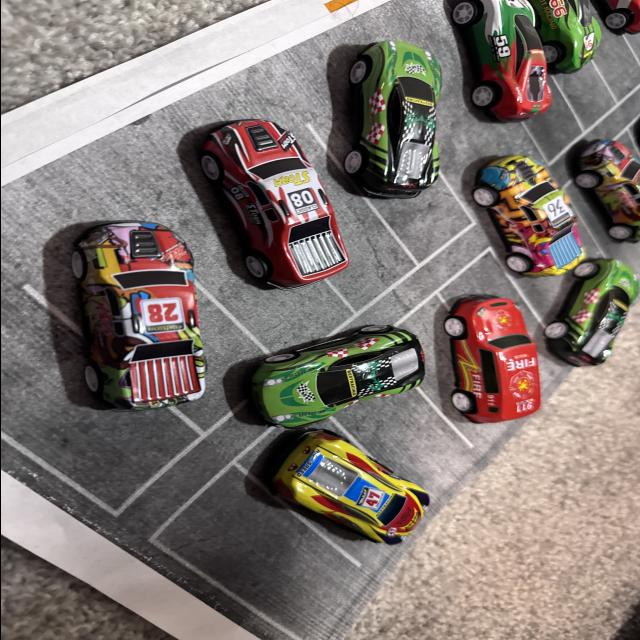car: (21, 165, 230, 458), (134, 112, 368, 284), (315, 8, 447, 230), (230, 417, 440, 536), (246, 315, 418, 443), (524, 260, 640, 420), (491, 166, 593, 314), (466, 0, 608, 92), (446, 292, 532, 434), (464, 0, 538, 148), (592, 111, 634, 225)
